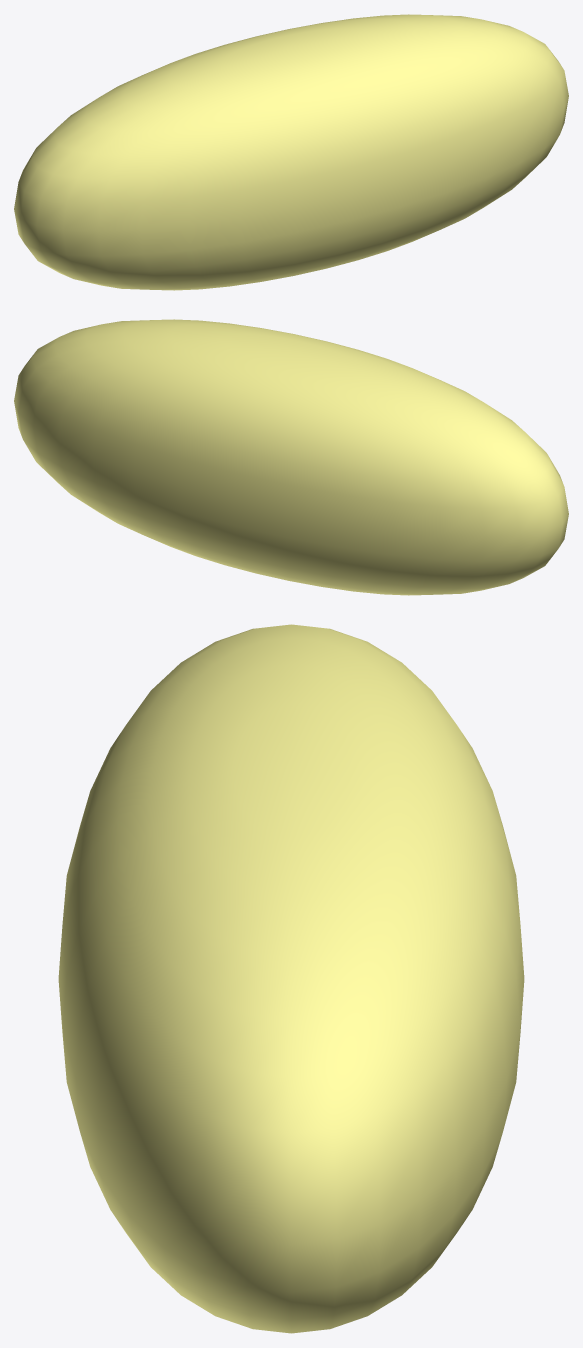
The picture shows the model from 3 angles, top to bottom: view 1: azimuth 30°, elevation 25°; view 2: azimuth 150°, elevation 25°; view 3: azimuth 270°, elevation 25°; orthographic projection. The views are drawn at different scales.
Visible parts, largest first — view 1: item; view 2: item; view 3: item.
Boxes of the visible parts, <box> form: item: <box>14,14,568,290</box>; item: <box>14,319,568,595</box>; item: <box>58,624,524,1333</box>.
Size of the model in its own units: 0.0253 by 0.00939 by 0.00939.
